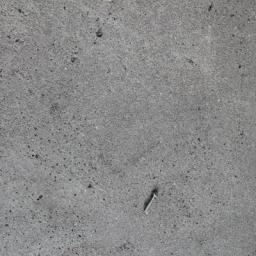FOD: (143, 190, 164, 219)
